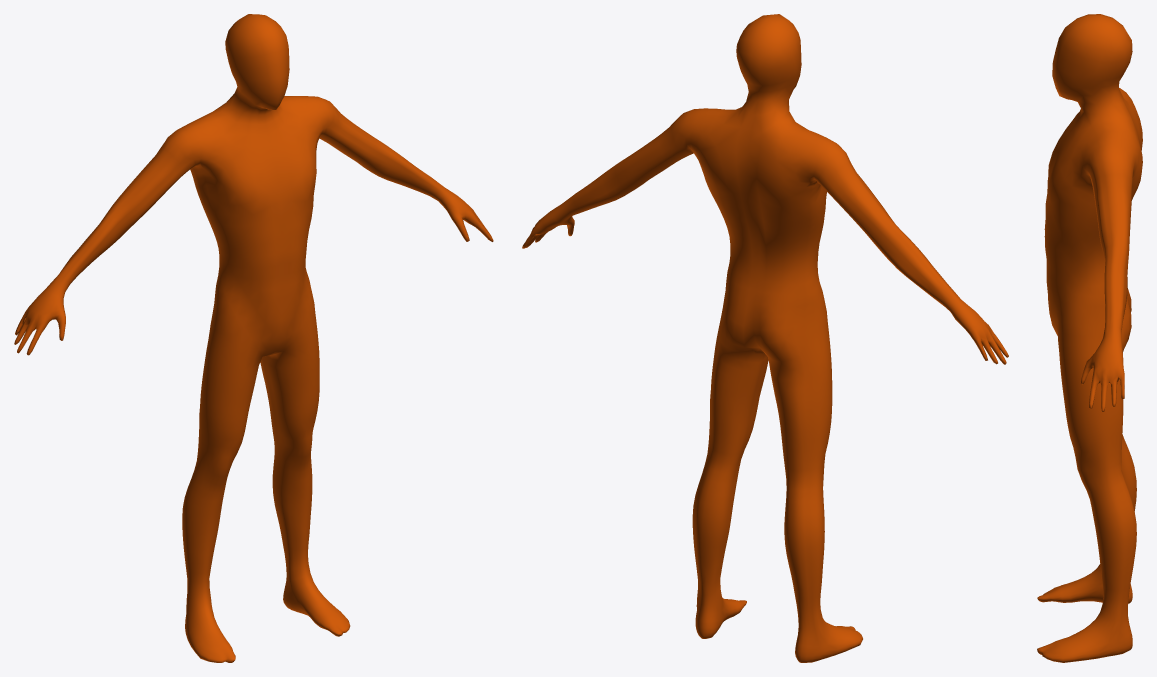
The model's file is Maniquin.fbx.
3 views of the same model, side by side, from view 1: azimuth 30°, elevation 25°; view 2: azimuth 150°, elevation 25°; view 3: azimuth 270°, elevation 25° (orthographic).
Visible parts, largest first — view 1: Player_Material_0_4; view 2: Player_Material_0_4; view 3: Player_Material_0_4.
Part boxes in pixels (left/top/right/bottom): Player_Material_0_4: left=14, top=14, right=493, bottom=662; Player_Material_0_4: left=522, top=14, right=1008, bottom=662; Player_Material_0_4: left=1037, top=14, right=1142, bottom=662.
Size of the model in its own units: 1.55 by 1.91 by 0.2995.
